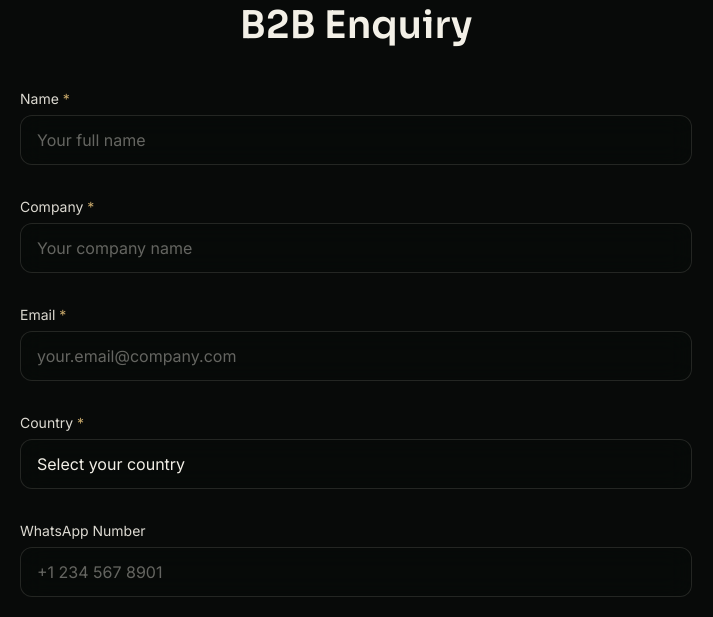
Test case: EnquiryFormWrapper – Submission Flows › Network error preserves data (Req 4.7) › shows error message and retains form data on network failure
In the field labelled "Name *": x=356, y=140 [20, 115, 692, 165], type "Jane Smith"
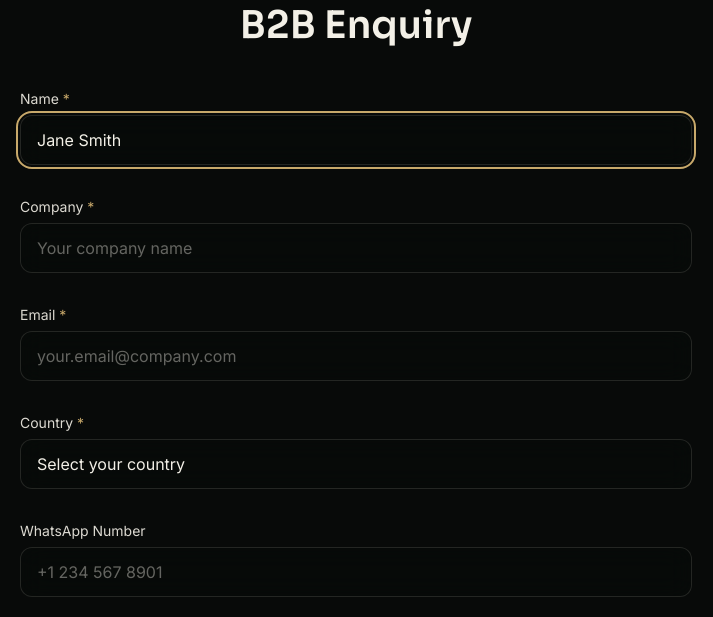
In the field labelled "Company *": x=356, y=248 [20, 223, 692, 273], type "GreenPack Ltd"
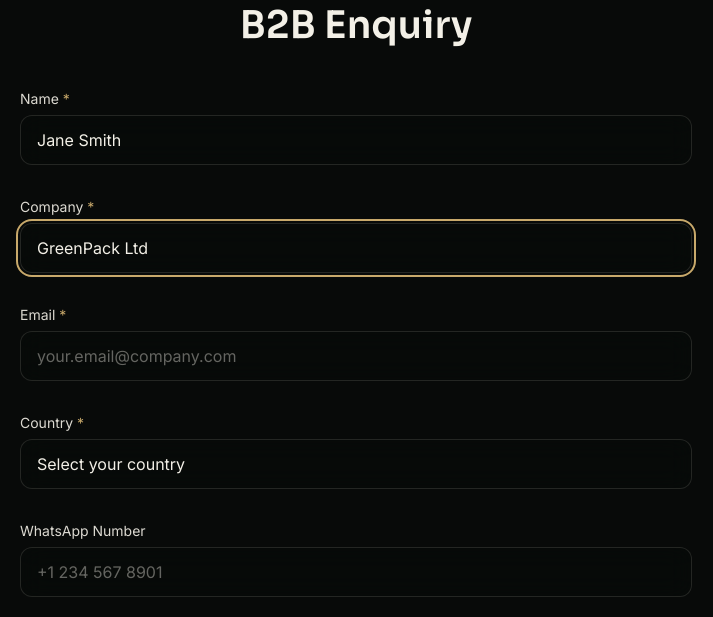
In the field labelled "Email *": x=356, y=356 [20, 331, 692, 381], type "jane@greenpack.com"
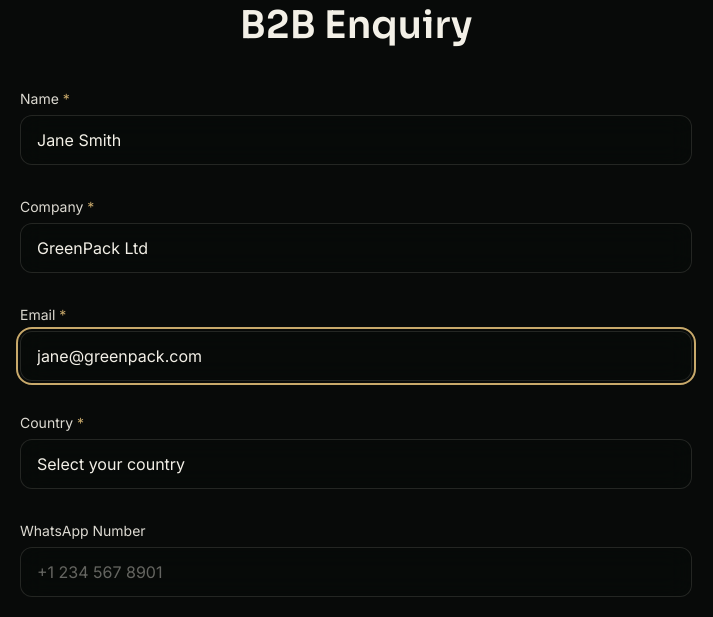
Select "United States" in the dropdown labelled "Country *": x=356, y=464 [20, 439, 692, 489]
(page scrolled)
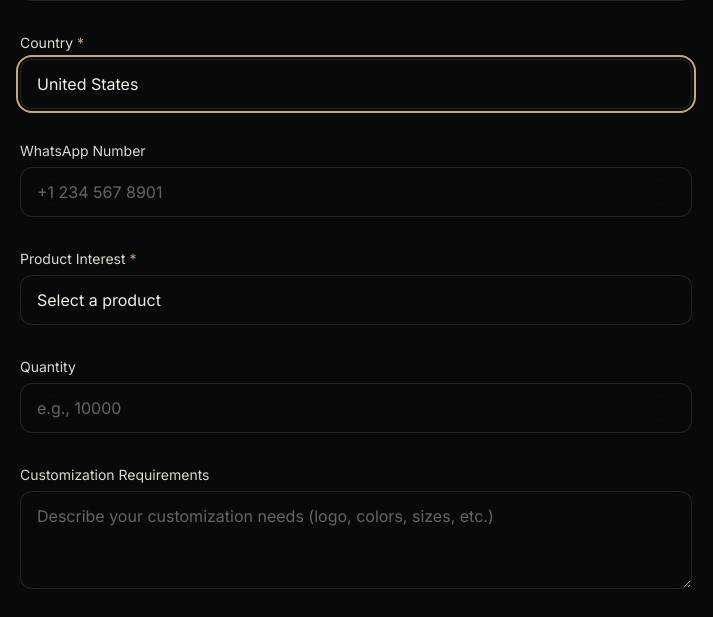
Select "Paper Cups" in the dropdown labelled "Product Interest *": x=356, y=300 [20, 275, 692, 325]
(page scrolled)
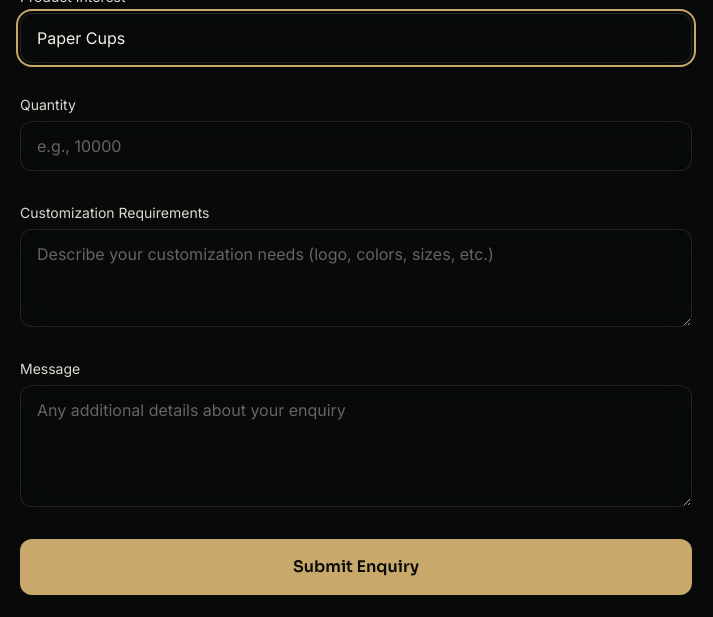
Click the button "Submit Enquiry": x=356, y=567 [20, 539, 692, 595]
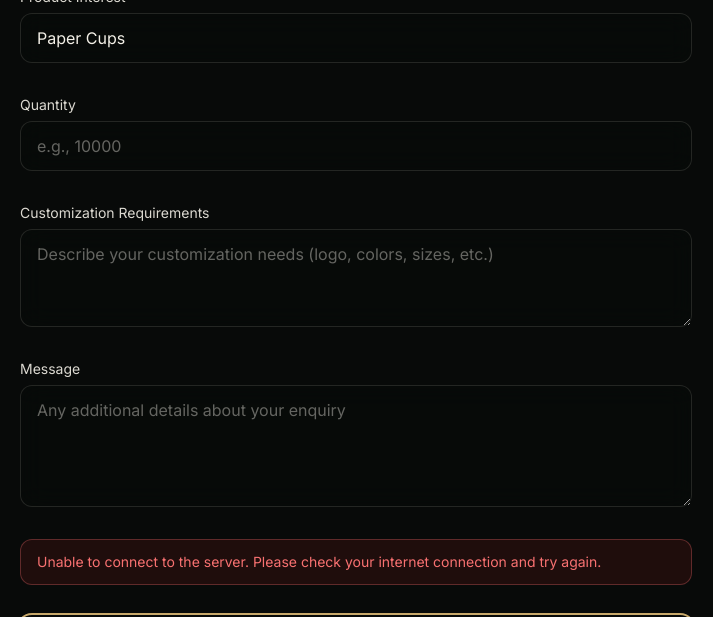
Expected: the text "Unable to connect" is shown, [37, 553, 601, 570]
